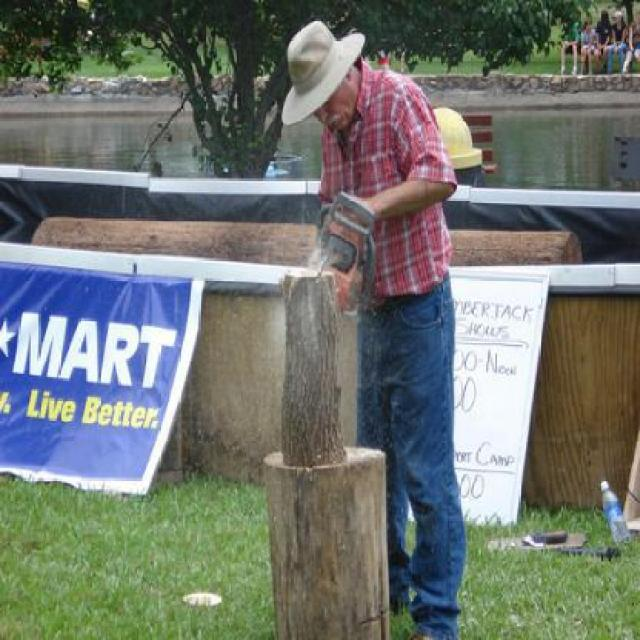Chainsaw: (312, 192, 372, 278)
